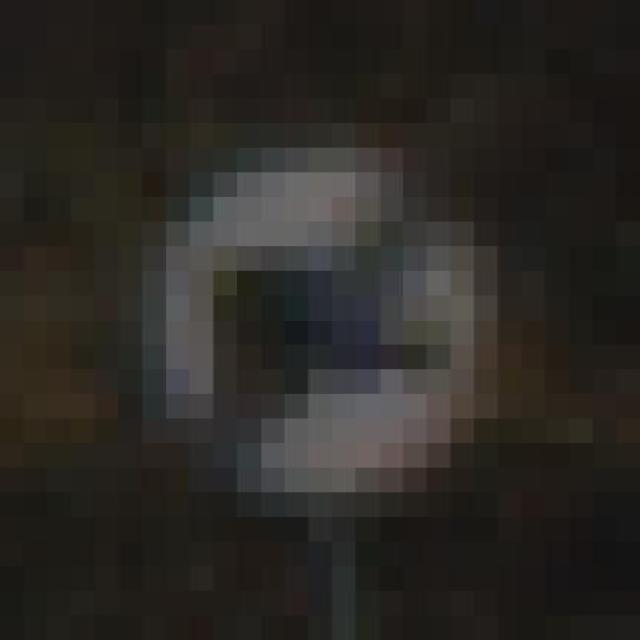Overtaking by trucks is prohibited: (72, 98, 546, 517)
